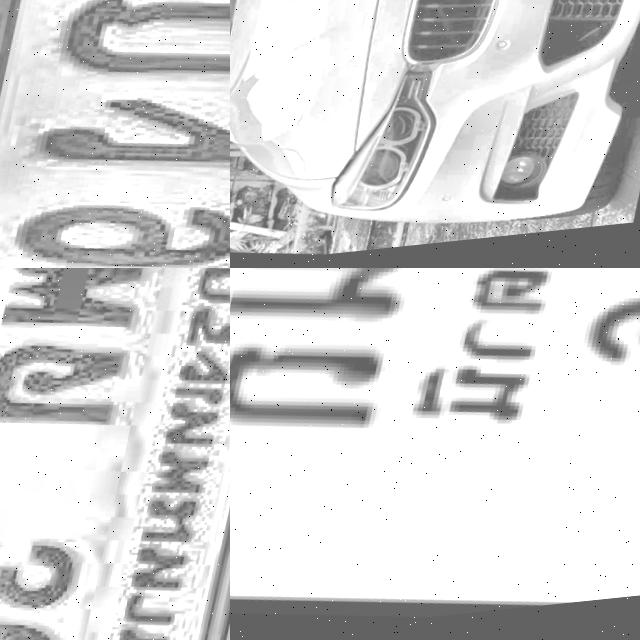license-plate: (230, 268, 640, 640), (0, 268, 230, 640), (0, 0, 230, 268), (182, 268, 230, 640)
